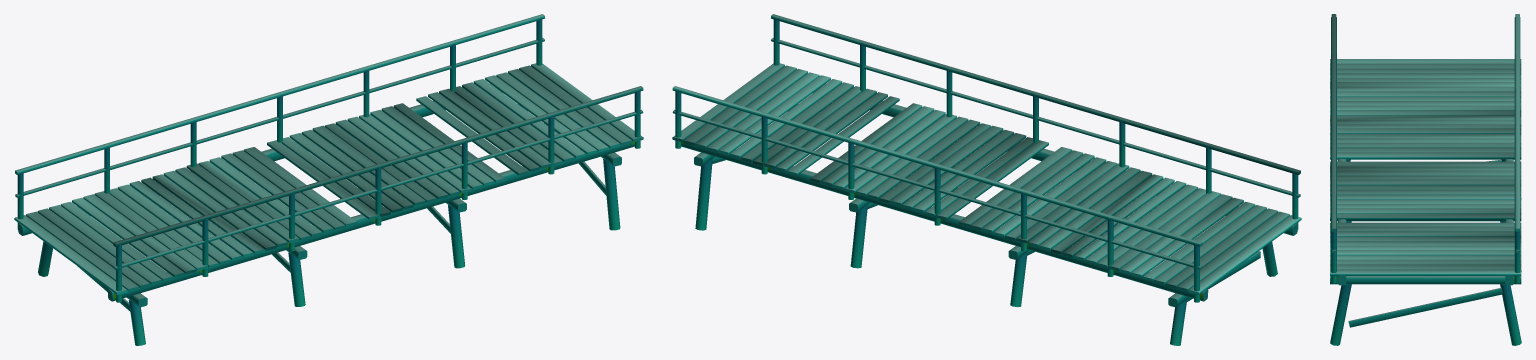
Rendered from mole_bridge.glb.
3 views of the same model, side by side, from view 1: azimuth 30°, elevation 25°; view 2: azimuth 150°, elevation 25°; view 3: azimuth 270°, elevation 25° (orthographic). The views are drawn at different scales.
Visible parts, largest first — view 1: mole_bridge; view 2: mole_bridge; view 3: mole_bridge.
Boxes of the visible parts, x1=… form: mole_bridge: x1=14, y1=14, x2=643, y2=345; mole_bridge: x1=672, y1=14, x2=1301, y2=345; mole_bridge: x1=1330, y1=14, x2=1521, y2=345.
Size of what is drawn, in the model's own units: 11.91 by 2.97 by 4.01.
